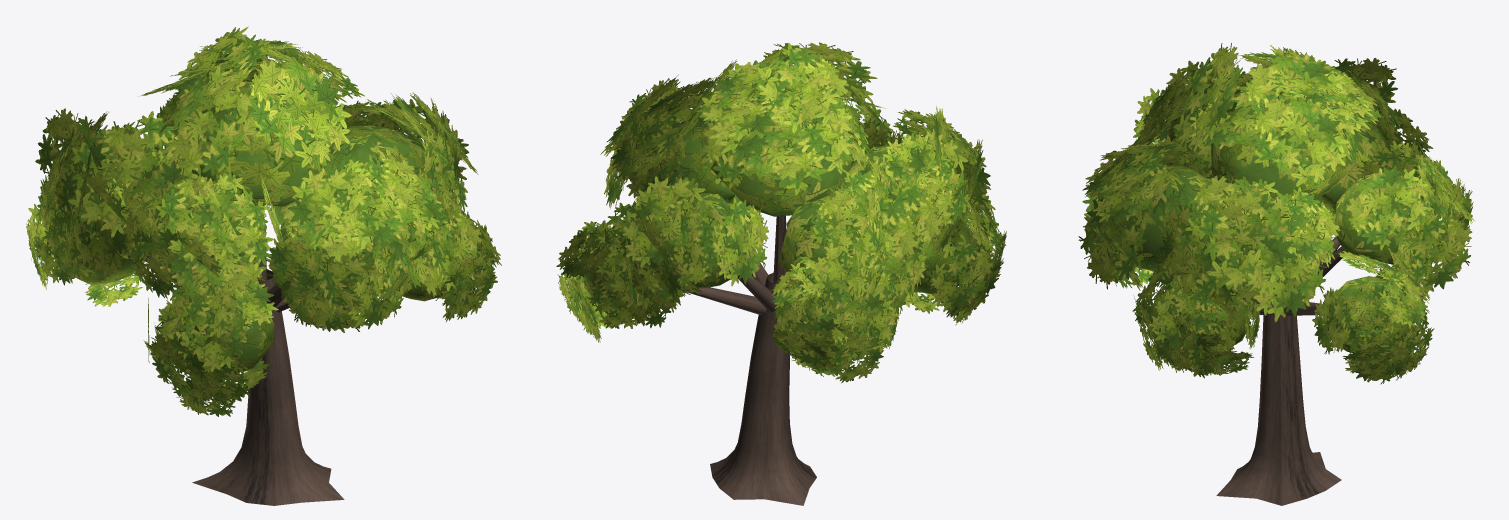
The model's file is tree_maple_green.glb.
3 renders of one model, left to right at view 1: azimuth 30°, elevation 25°; view 2: azimuth 150°, elevation 25°; view 3: azimuth 270°, elevation 25°, orthographic. The views are drawn at different scales.
Visible parts, largest first — view 1: model; view 2: model; view 3: model.
Boxes of the visible parts, x1,y1,x2,y2 form: model: (26, 26, 501, 505); model: (556, 42, 1006, 505); model: (1078, 43, 1474, 505).
Size of the model in its own units: 6.2 by 6.7 by 6.06.
Materials: 3 (3 with a texture image).
